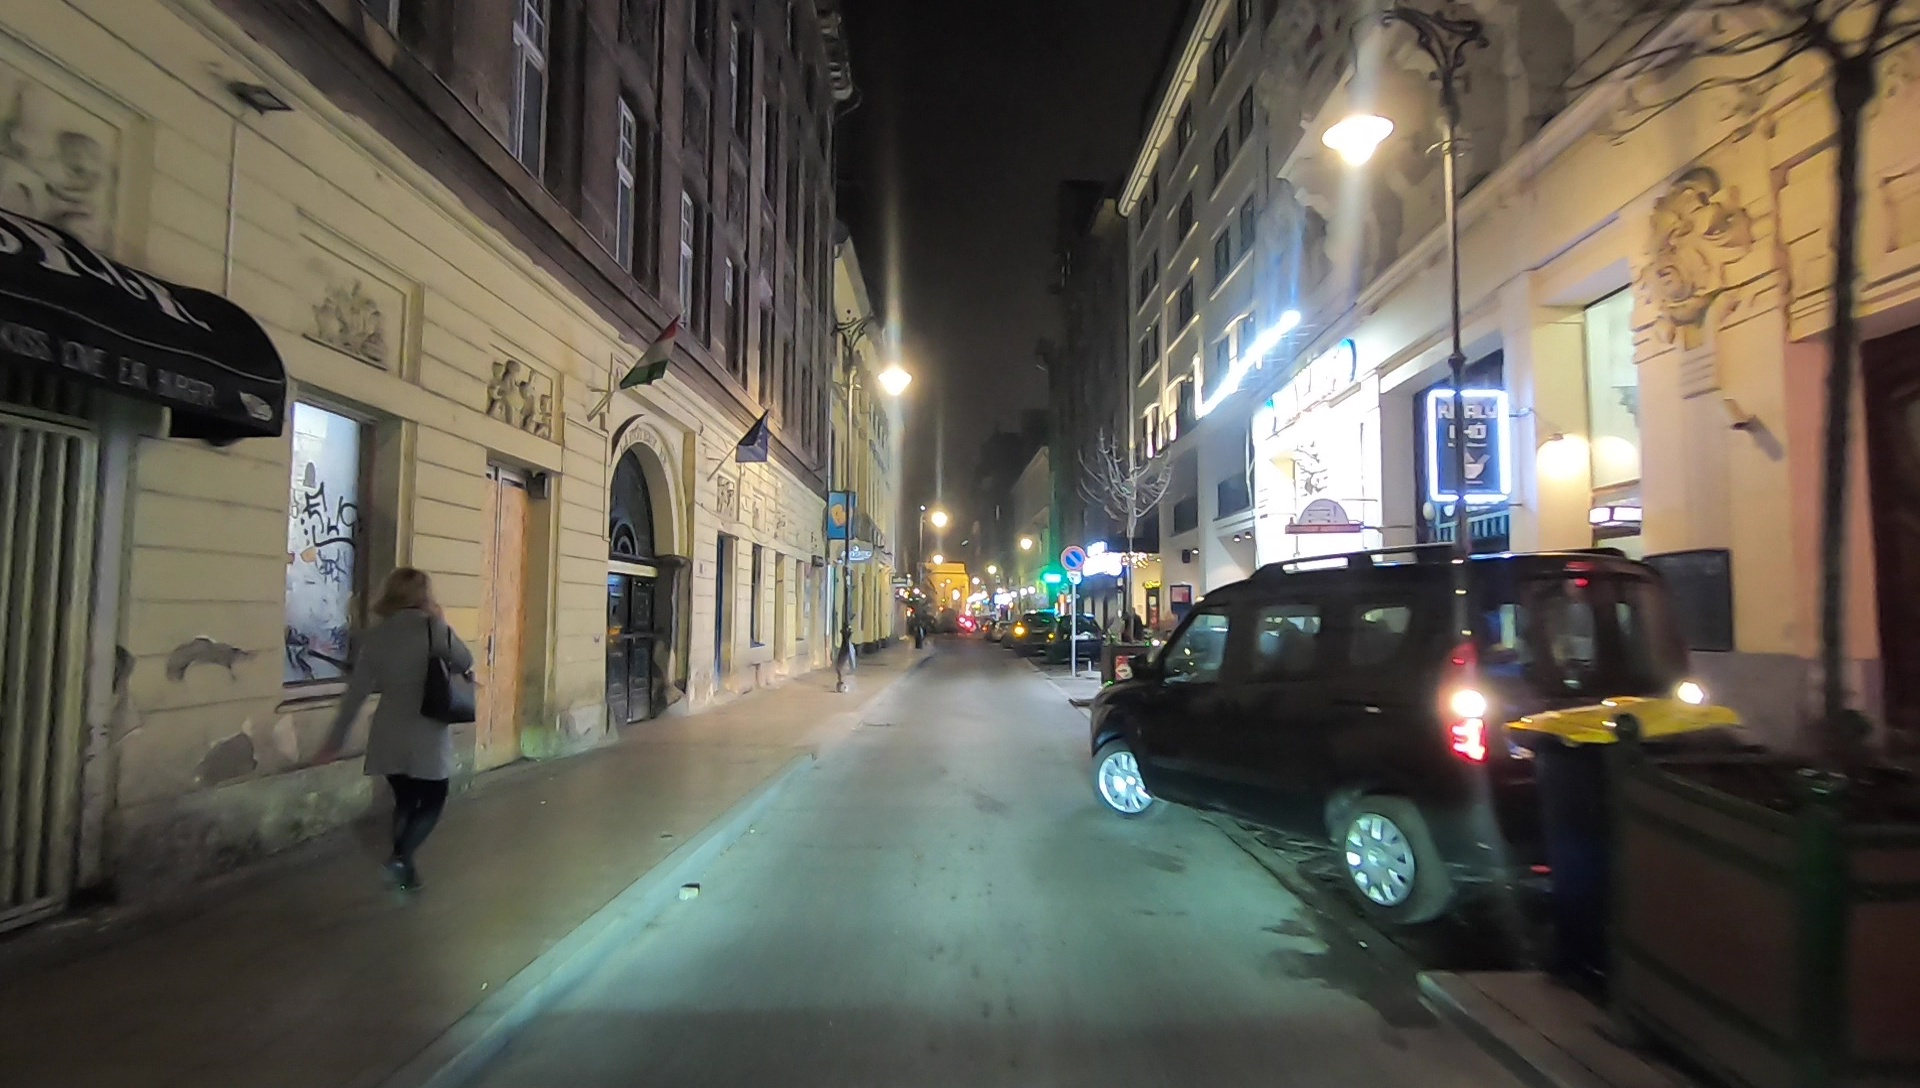person: (332, 569, 475, 895)
